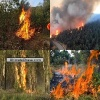fire: (50, 50, 100, 99), (16, 6, 42, 40), (14, 50, 34, 94), (77, 22, 84, 30), (69, 28, 72, 33), (55, 30, 58, 35), (50, 34, 52, 38)
